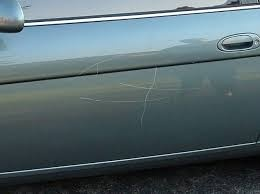Scratch: (73, 69, 192, 119)
